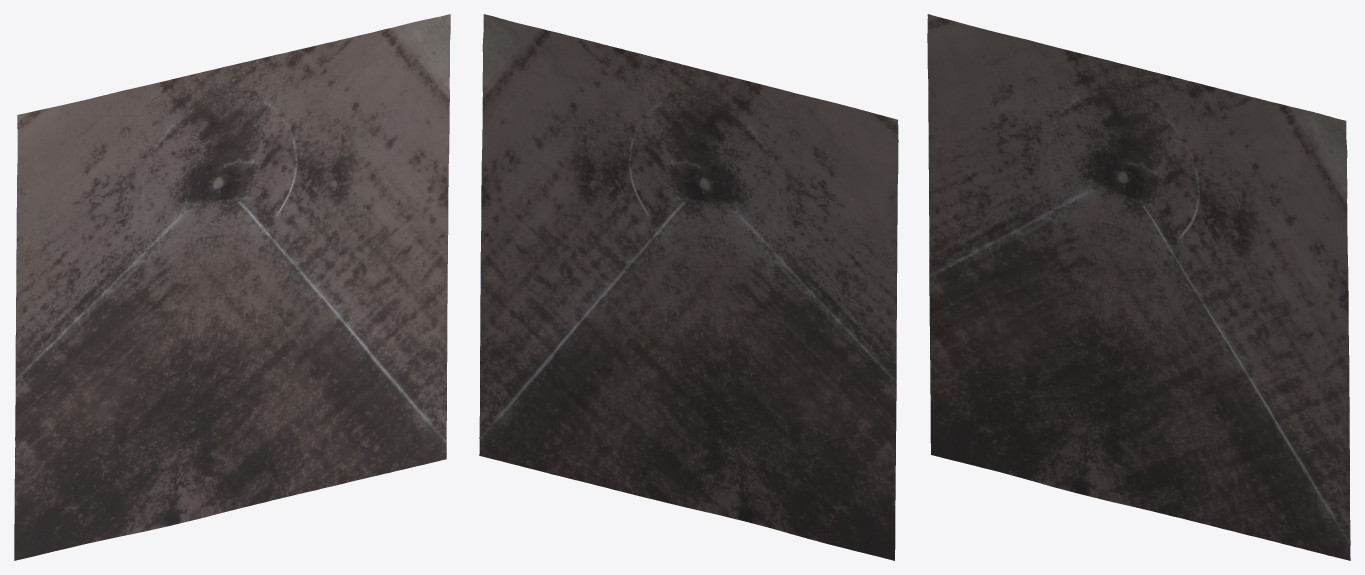
Rendered from Tile_+016_+009.fbx.
The picture shows the model from 3 angles, left to right: view 1: azimuth 30°, elevation 25°; view 2: azimuth 150°, elevation 25°; view 3: azimuth 330°, elevation 25°; orthographic projection. The views are drawn at different scales.
Visible parts, largest first — view 1: DefaultName; view 2: DefaultName; view 3: DefaultName.
Boxes of the visible parts, box(x1,y1,x2,y2) form: DefaultName: box(14, 14, 450, 560); DefaultName: box(479, 14, 898, 560); DefaultName: box(927, 14, 1350, 560).
Bounding box in the file's own units: 22.54 × 22.54 × 0.7446.
